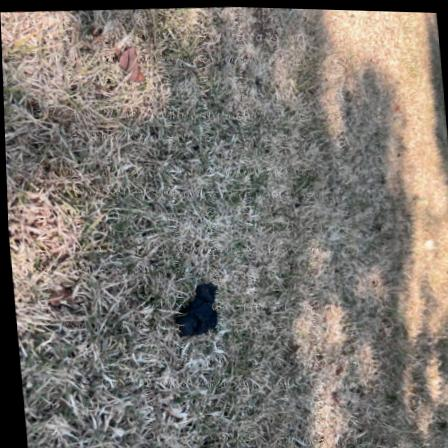dog-poop: (160, 273, 224, 339)
